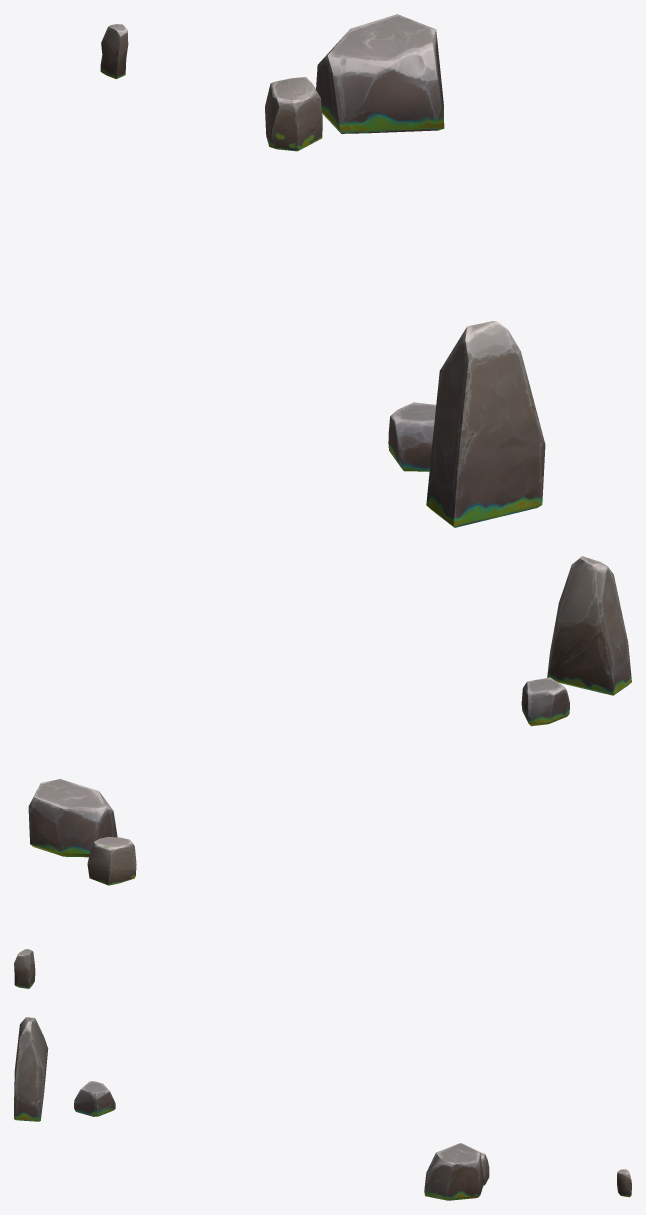
The model's file is rocks.fbx.
3 renders of one model, top to bottom at view 1: azimuth 30°, elevation 25°; view 2: azimuth 150°, elevation 25°; view 3: azimuth 270°, elevation 25°, orthographic. The views are drawn at different scales.
Visible parts, largest first — view 1: Stone_3_Low.002, Stone_2_Low.002, Stone_5_Low.002, Stone_1_Low.002, Stone_4_Low.002; view 2: Stone_3_Low.002, Stone_2_Low.002, Stone_5_Low.002, Stone_1_Low.002, Stone_4_Low.002; view 3: Stone_3_Low.002, Stone_2_Low.002, Stone_1_Low.002, Stone_4_Low.002.
Boxes of the visible parts, x1,y1,x2,y2 form: Stone_3_Low.002: [426, 321, 545, 527]; Stone_2_Low.002: [316, 14, 444, 133]; Stone_5_Low.002: [265, 76, 322, 151]; Stone_1_Low.002: [388, 402, 436, 471]; Stone_4_Low.002: [100, 24, 128, 79]; Stone_3_Low.002: [547, 556, 631, 695]; Stone_2_Low.002: [28, 779, 117, 857]; Stone_5_Low.002: [87, 837, 136, 885]; Stone_1_Low.002: [521, 677, 569, 726]; Stone_4_Low.002: [14, 949, 35, 988]; Stone_3_Low.002: [14, 1017, 48, 1121]; Stone_2_Low.002: [424, 1143, 483, 1200]; Stone_1_Low.002: [74, 1081, 115, 1116]; Stone_4_Low.002: [617, 1169, 631, 1197].
Bounding box in the file's own units: 235 × 128 × 594.
1 material, 1 textured.
